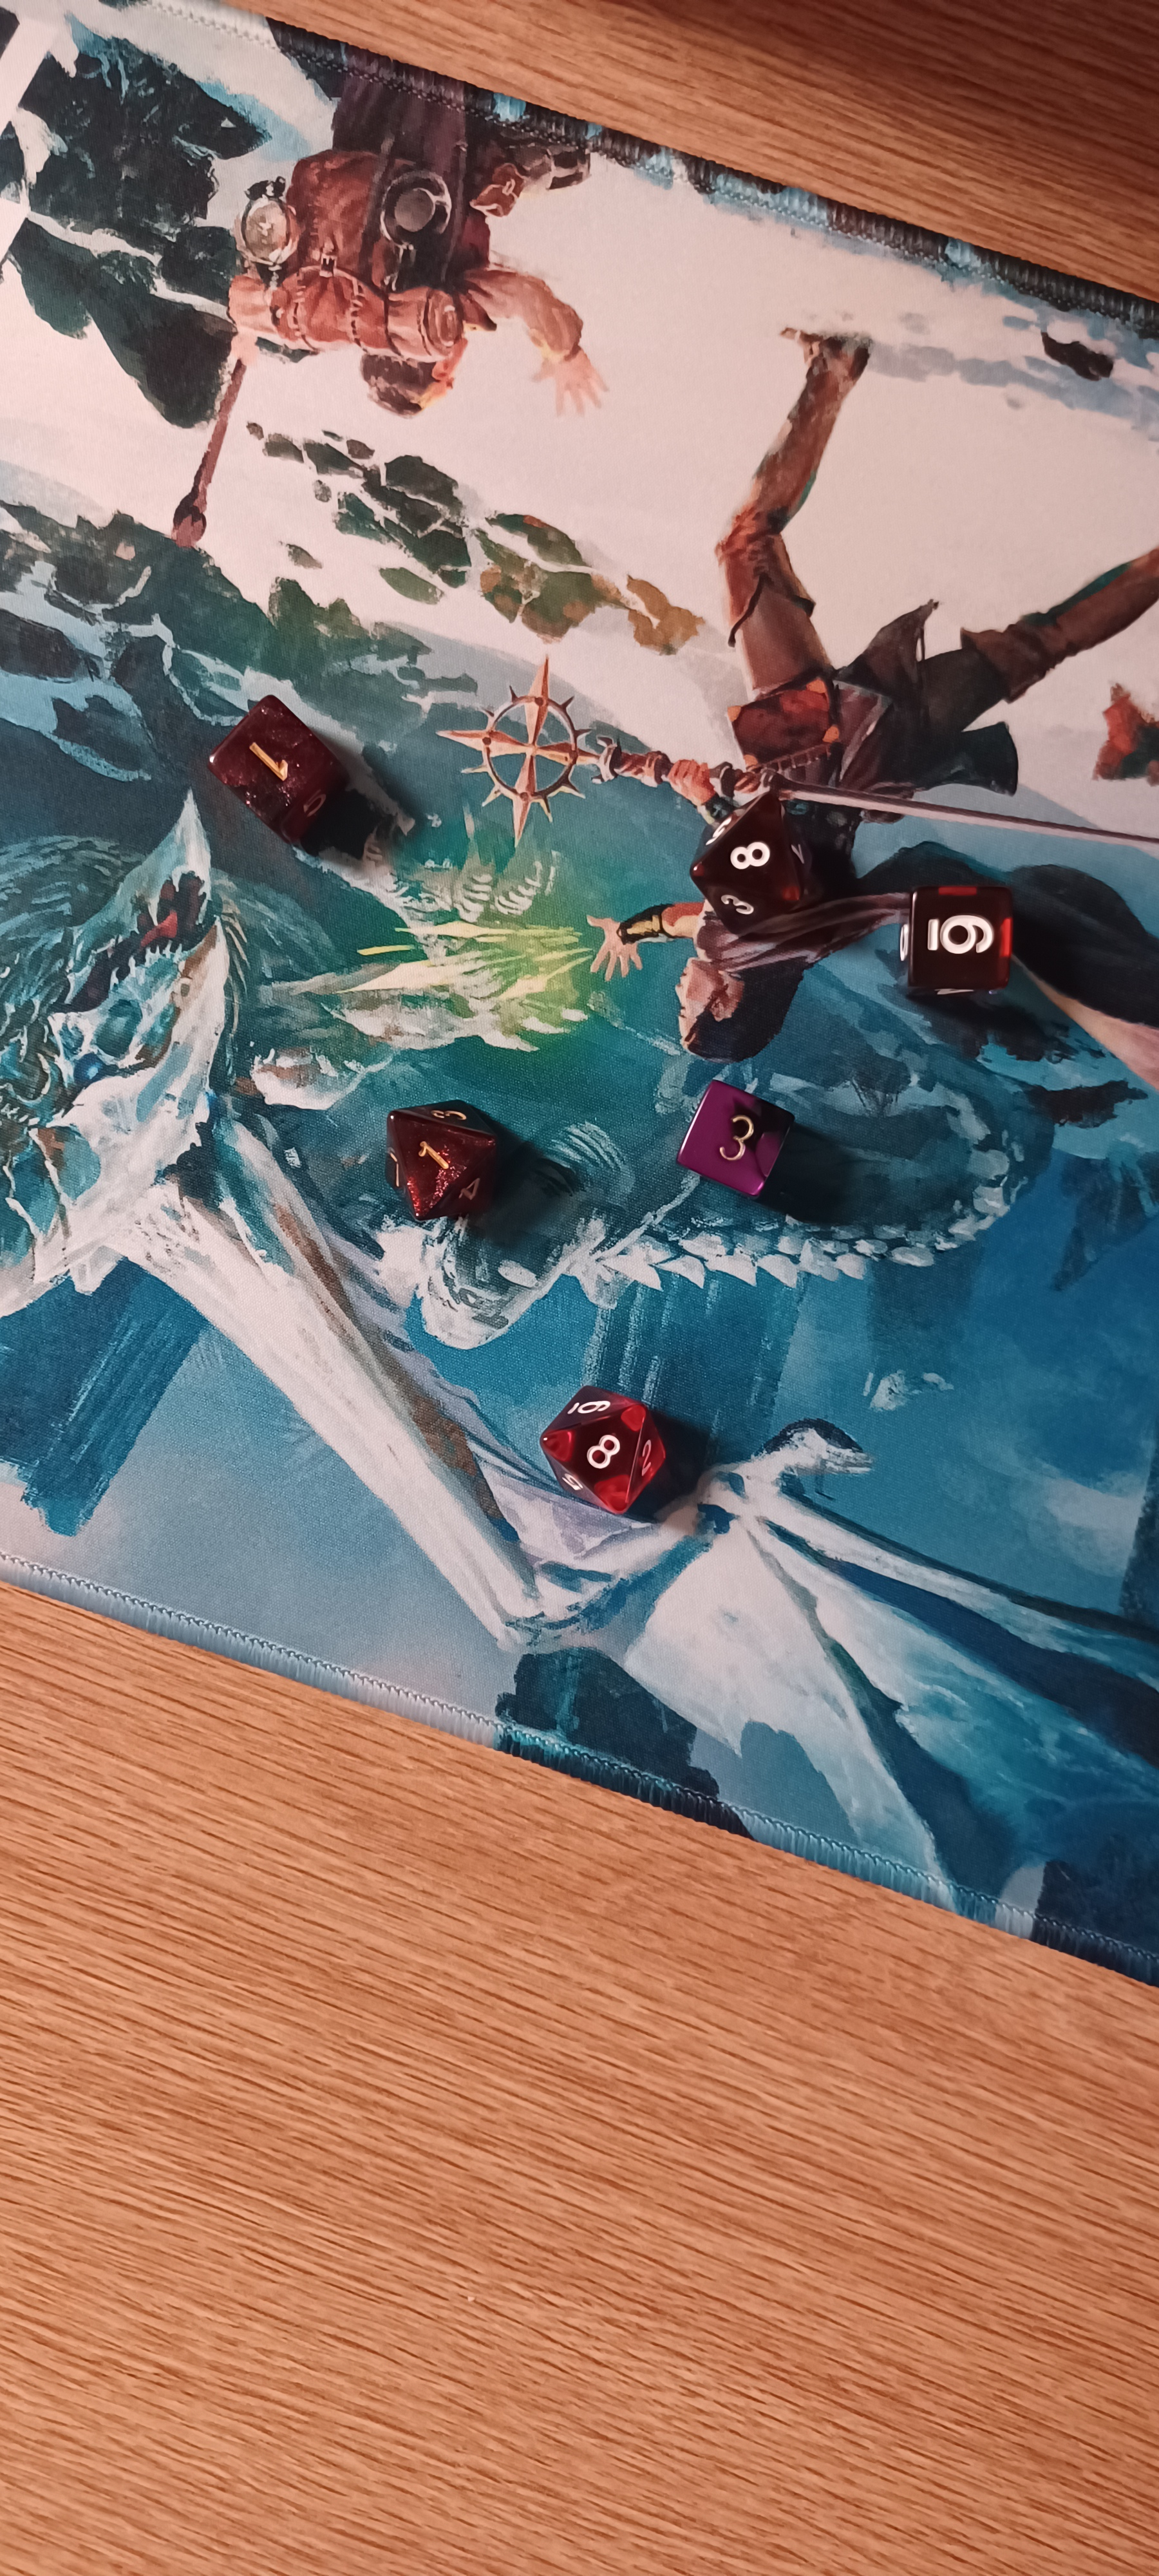eight: (662, 764, 832, 951), (525, 1357, 689, 1526)
one: (194, 664, 364, 859), (356, 1061, 530, 1244)
six: (880, 853, 1046, 1032)
three: (642, 1050, 824, 1234)
